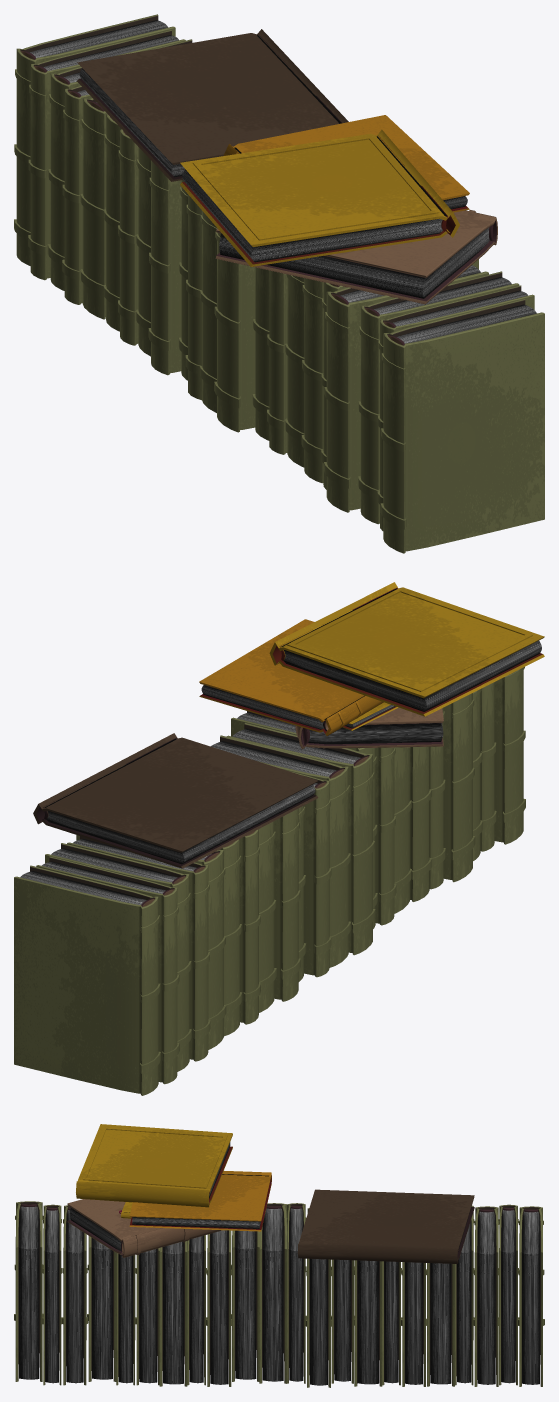
File: Shelf17.fbx
The picture shows the model from 3 angles, top to bottom: view 1: azimuth 30°, elevation 25°; view 2: azimuth 150°, elevation 25°; view 3: azimuth 270°, elevation 25°; orthographic projection. The views are drawn at different scales.
Visible parts, largest first — view 1: pCube96, pCube1 (×5), pCube68, pCube12, pCube64 (×4), pCube65 (×4), pCube10, pCube71, pCube110, pCube94, pCube108, pCube109 (+12 smaller); view 2: pCube109, pCube1 (×5), pCube68, pCube12, pCube64 (×4), pCube65 (×4), pCube15, pCube96, pCube110, pCube10, pCube105, pages14 (+13 smaller); view 3: pages4 (×5), pCube68, pCube12, pages2 (×4), pages5 (×4), pCube1 (×5), pCube15, pCube65 (×4), pages20, pCube64 (×4), pCube71, pages29 (+18 smaller).
Boxes of the visible parts, x1,y1,x2,y2 form: pCube96: (380, 298, 544, 553); pCube1 (×5): (136, 147, 488, 512); pCube68: (77, 29, 348, 181); pCube12: (180, 129, 459, 266); pCube64 (×4): (118, 129, 478, 489); pCube65 (×4): (103, 114, 323, 483); pCube10: (148, 160, 181, 375); pCube71: (215, 210, 497, 304); pCube110: (28, 29, 185, 280); pCube94: (358, 271, 519, 524); pCube108: (80, 98, 107, 319); pCube109: (14, 14, 175, 265); pCube109: (14, 865, 160, 1095); pCube1 (×5): (220, 693, 475, 1012); pCube68: (33, 733, 318, 868); pCube12: (269, 582, 544, 716); pCube64 (×4): (240, 707, 445, 1024); pCube65 (×4): (218, 711, 431, 1036); pCube15: (199, 619, 383, 735); pCube96: (494, 667, 525, 844); pCube110: (36, 856, 179, 1084); pCube10: (274, 808, 300, 1001); pCube105: (67, 836, 210, 1061); pages14: (281, 588, 541, 711); pages4 (×5): (92, 1208, 378, 1384); pCube68: (297, 1189, 474, 1263); pCube12: (76, 1124, 232, 1207); pages2 (×4): (139, 1230, 422, 1385); pages5 (×4): (118, 1208, 398, 1383); pCube1 (×5): (87, 1203, 382, 1386); pCube15: (129, 1171, 271, 1231); pCube65 (×4): (135, 1208, 426, 1387); pages20: (19, 1206, 39, 1379); pCube64 (×4): (116, 1203, 402, 1385); pCube71: (67, 1199, 221, 1257); pages29: (477, 1211, 495, 1384).
Size of the model in its own units: 1.16 by 1.09 by 2.81.
